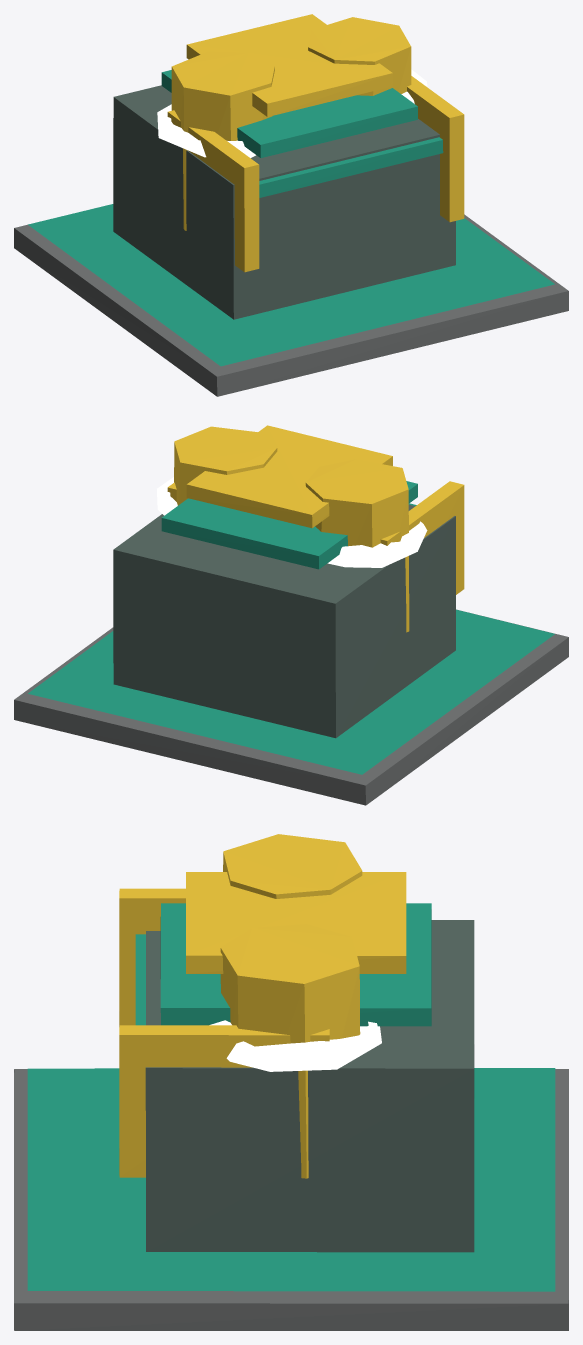
Rendered from SM_Coalition_CO_PowerPlant_LOD3.fbx.
3 views of the same model, one above another, from view 1: azimuth 30°, elevation 25°; view 2: azimuth 150°, elevation 25°; view 3: azimuth 270°, elevation 25° (orthographic). The views are drawn at different scales.
Visible parts, largest first — view 1: LOD03_SM_Coalition_CO_PowerPlant; view 2: LOD03_SM_Coalition_CO_PowerPlant; view 3: LOD03_SM_Coalition_CO_PowerPlant.
Part boxes in pixels (x1,y1,x2,y2): LOD03_SM_Coalition_CO_PowerPlant: [14, 14, 568, 396]; LOD03_SM_Coalition_CO_PowerPlant: [14, 425, 568, 805]; LOD03_SM_Coalition_CO_PowerPlant: [14, 834, 568, 1330].
Bounding box in the file's own units: 597 × 597 × 362.
